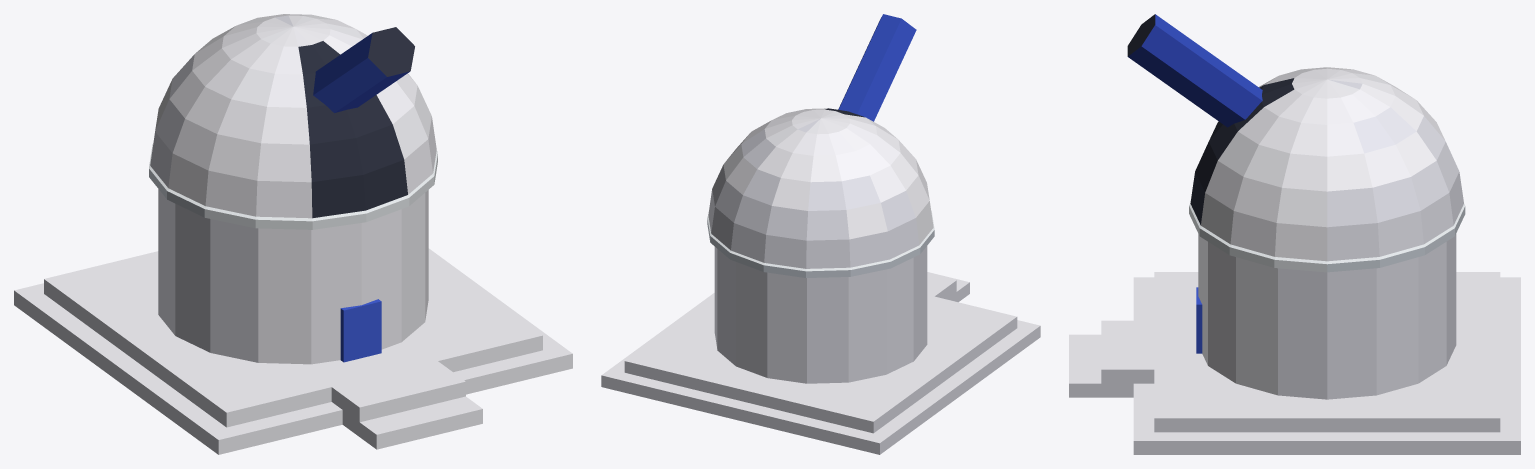
The model's file is landmark-far.glb.
3 views of the same model, side by side, from view 1: azimuth 30°, elevation 25°; view 2: azimuth 150°, elevation 25°; view 3: azimuth 270°, elevation 25° (orthographic). The views are drawn at different scales.
Visible parts, largest first — view 1: observatory-far; view 2: observatory-far; view 3: observatory-far.
Part boxes in pixels (x1,y1,x2,y2): observatory-far: (14,14,572,454); observatory-far: (601,14,1040,454); observatory-far: (1069,14,1520,454).
Bounding box in the file's own units: 30 × 30.23 × 35.
1 material, 1 textured.
